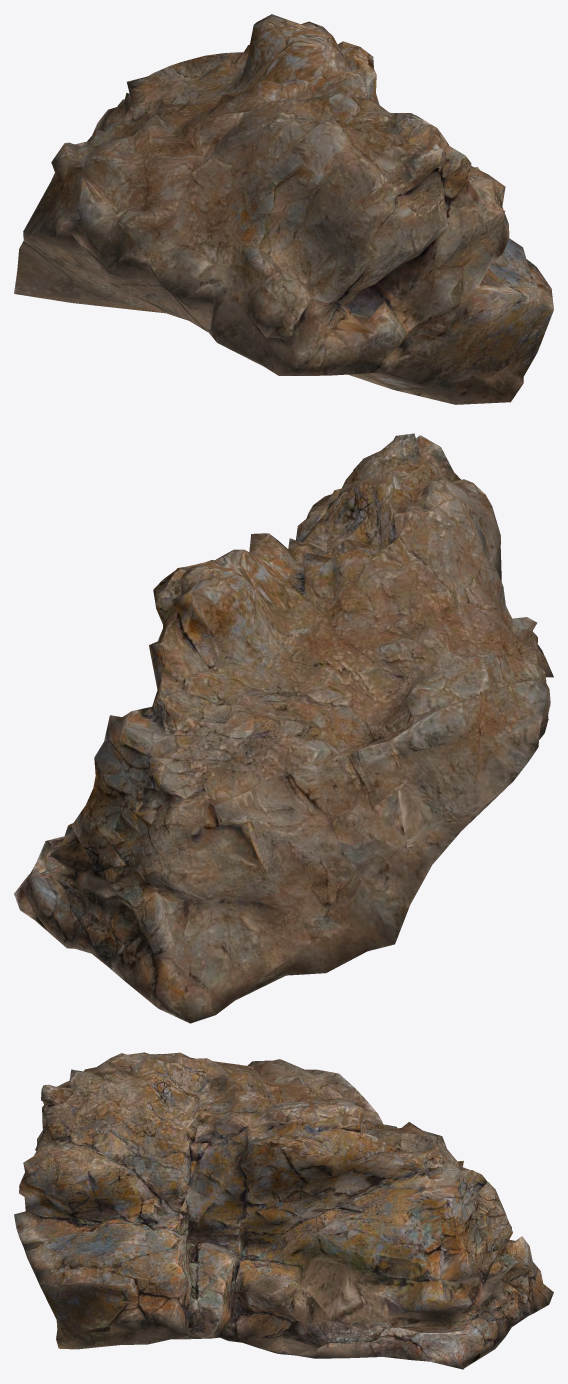
File: penasco_01.glb
3 views of the same model, one above another, from view 1: azimuth 30°, elevation 25°; view 2: azimuth 150°, elevation 25°; view 3: azimuth 270°, elevation 25° (orthographic). The views are drawn at different scales.
Parts seen in each view (by area): view 1: penasco_01; view 2: penasco_01; view 3: penasco_01.
Part boxes in pixels (x1,y1,x2,y2): penasco_01: (14, 14, 553, 404); penasco_01: (14, 433, 553, 1023); penasco_01: (14, 1052, 553, 1369).
Size of the model in its own units: 1.19 by 0.927 by 1.7.
Materials: 1 (1 with a texture image).
